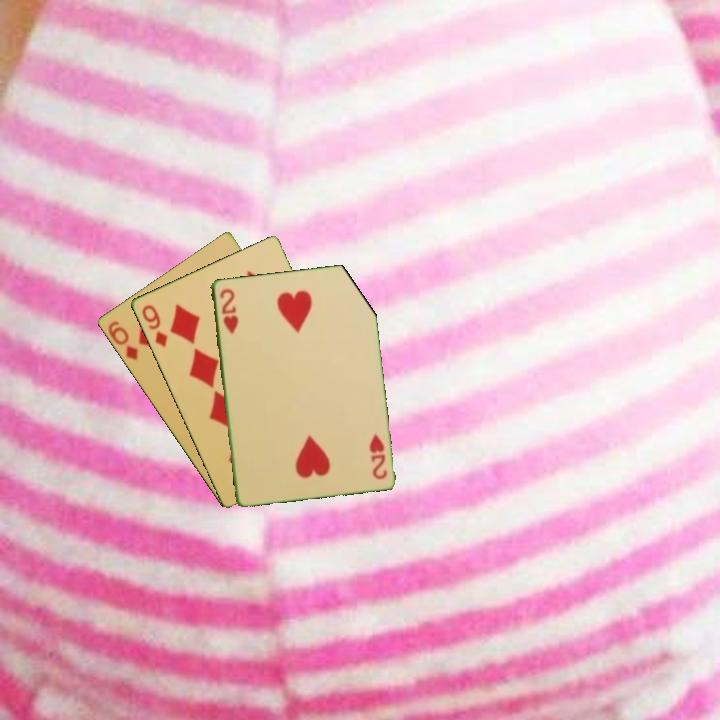2h: (365, 430, 390, 482), (216, 285, 240, 337)
6d: (104, 317, 141, 363)
9d: (138, 301, 170, 350)
